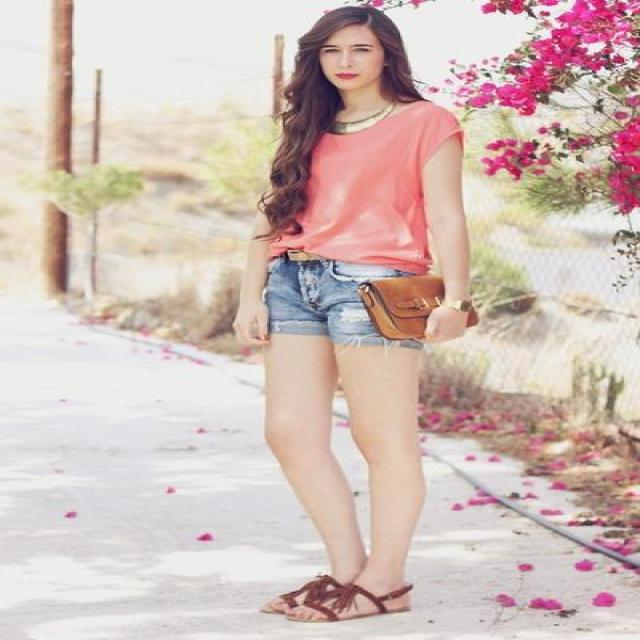bag: (355, 278, 477, 349)
shirt: (261, 100, 462, 284)
shoe: (280, 575, 392, 622)
shorts: (261, 250, 411, 616)
